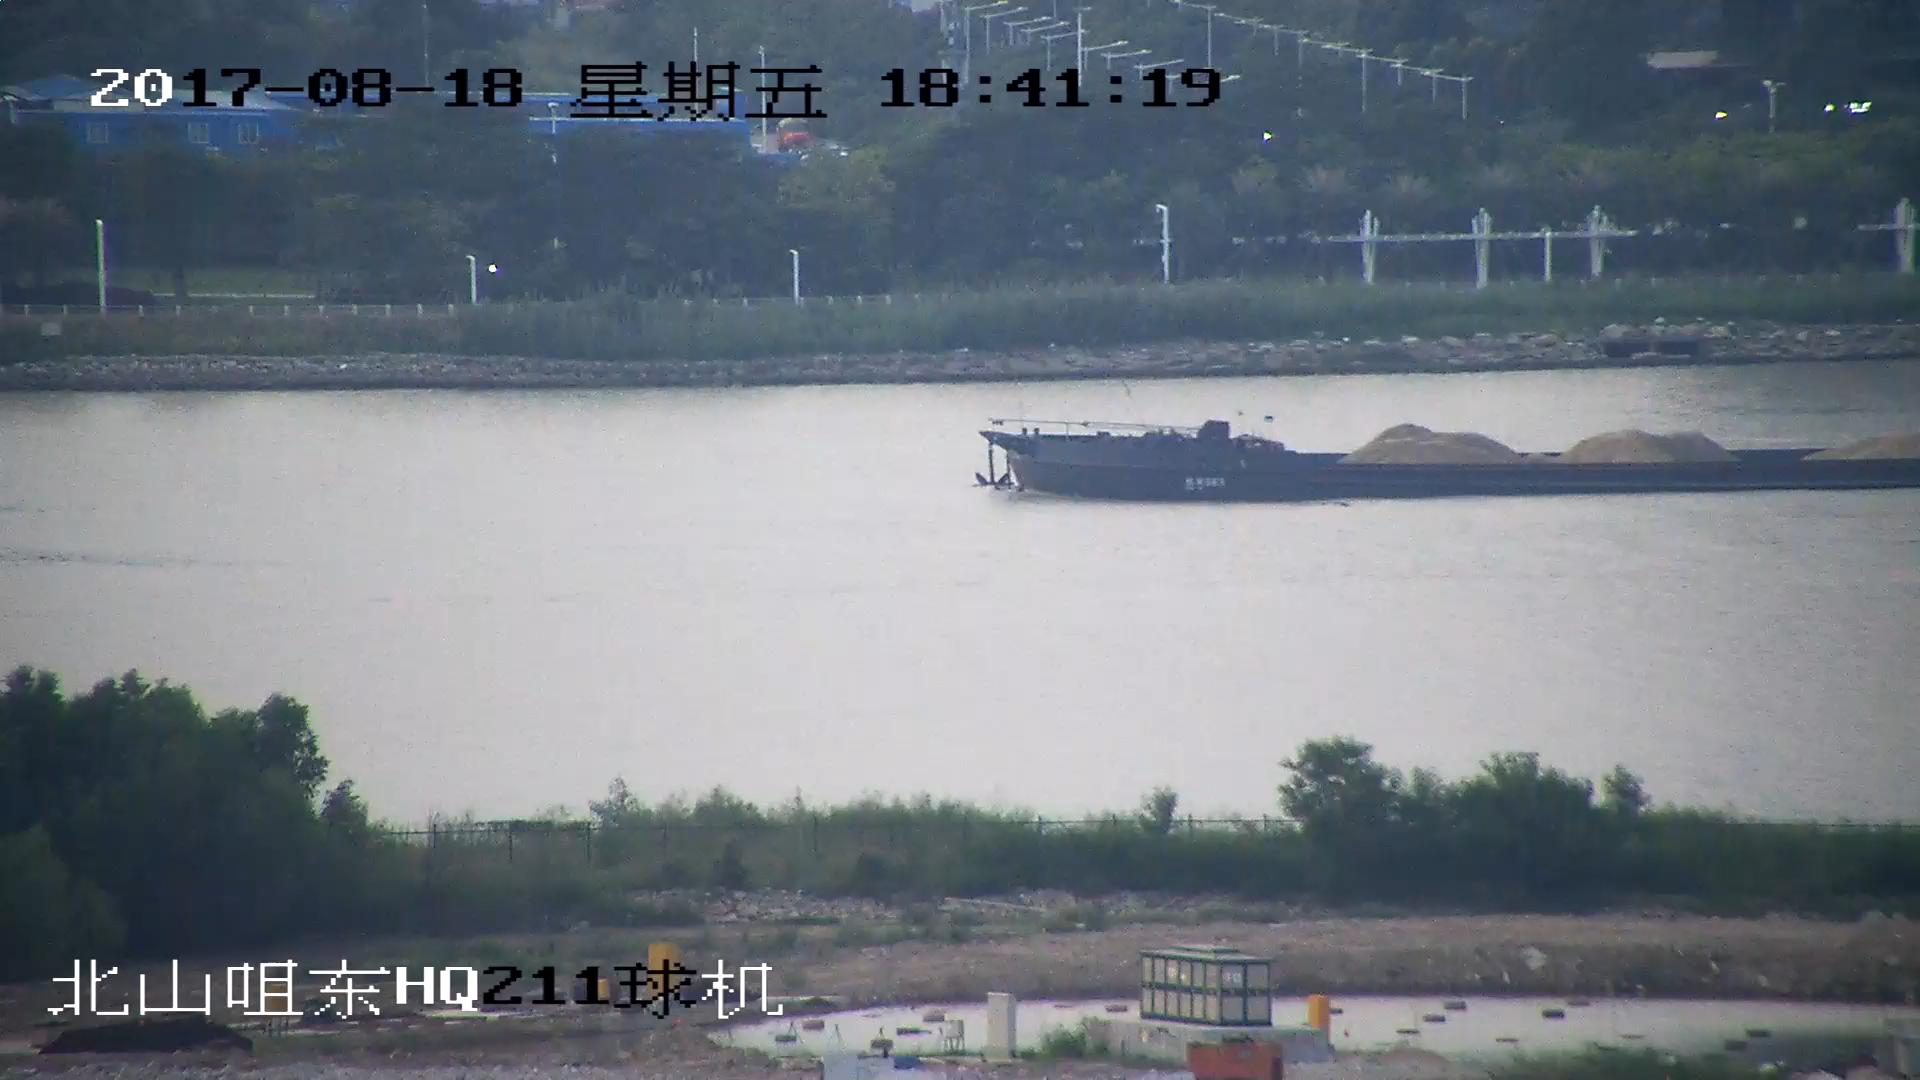ore carrier: (974, 412, 1920, 508)
